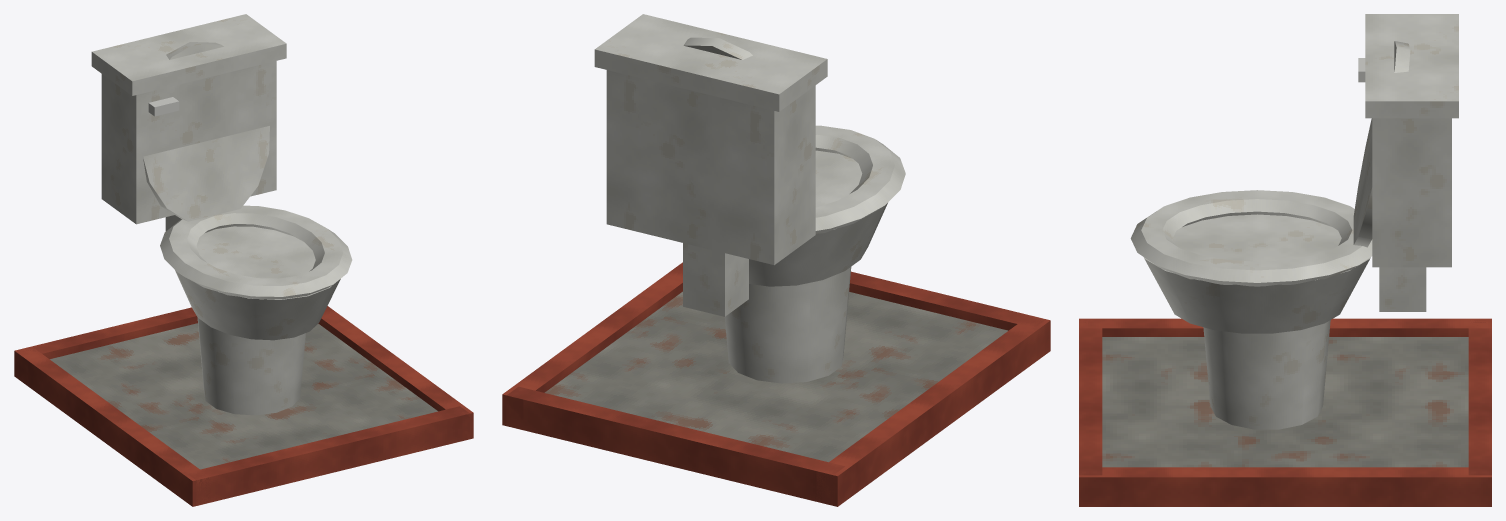
The model's file is toilet.glb.
3 renders of one model, left to right at view 1: azimuth 30°, elevation 25°; view 2: azimuth 150°, elevation 25°; view 3: azimuth 270°, elevation 25°, orthographic. The views are drawn at different scales.
Visible parts, largest first — view 1: Toilet; view 2: Toilet; view 3: Toilet.
Boxes of the visible parts, x1,y1,x2,y2 form: Toilet: [14, 14, 473, 506]; Toilet: [502, 14, 1050, 506]; Toilet: [1079, 14, 1491, 506].
Size of the model in its own units: 0.8 by 0.8935 by 0.88.
Materials: 5 (3 with a texture image).
